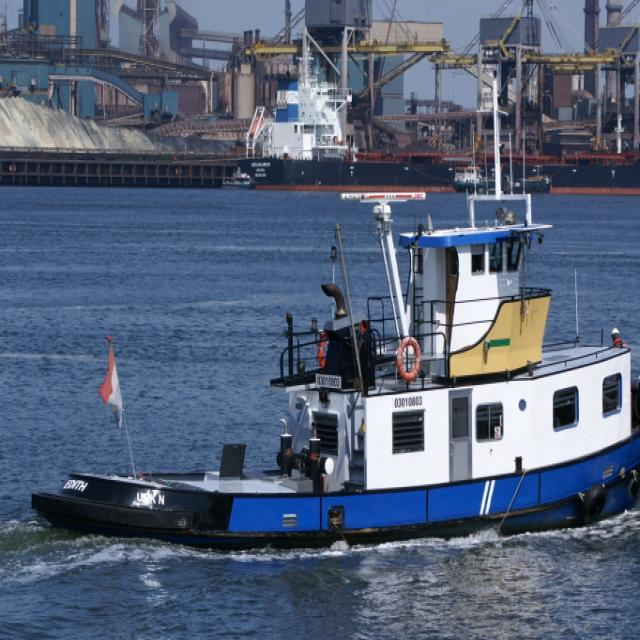tugboat: (28, 182, 640, 573)
